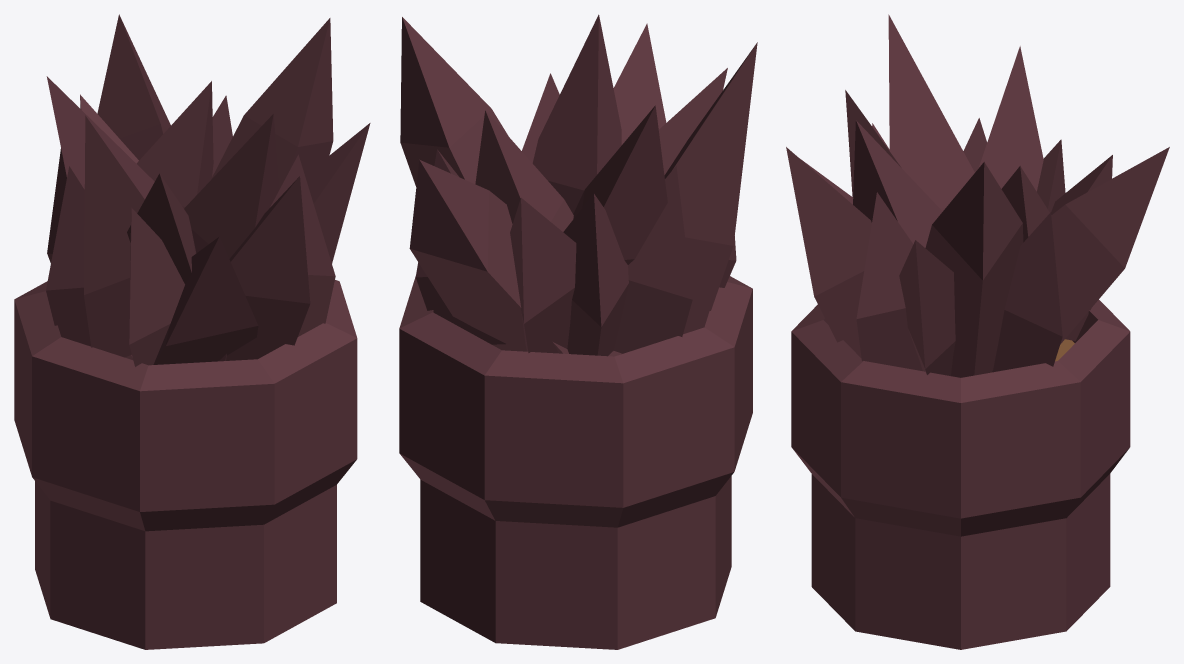
The model's file is furniture-pot-small-circle-plant.glb.
3 renders of one model, left to right at view 1: azimuth 30°, elevation 25°; view 2: azimuth 150°, elevation 25°; view 3: azimuth 270°, elevation 25°, orthographic. The views are drawn at different scales.
Parts seen in each view (by area): view 1: pot-small-circle-plant; view 2: pot-small-circle-plant; view 3: pot-small-circle-plant.
Part boxes in pixels (x1=…): pot-small-circle-plant: x1=14, y1=14, x2=370, y2=649; pot-small-circle-plant: x1=399, y1=14, x2=757, y2=649; pot-small-circle-plant: x1=786, y1=14, x2=1169, y2=649.
Size of the model in its own units: 0.1355 by 0.219 by 0.1499.
